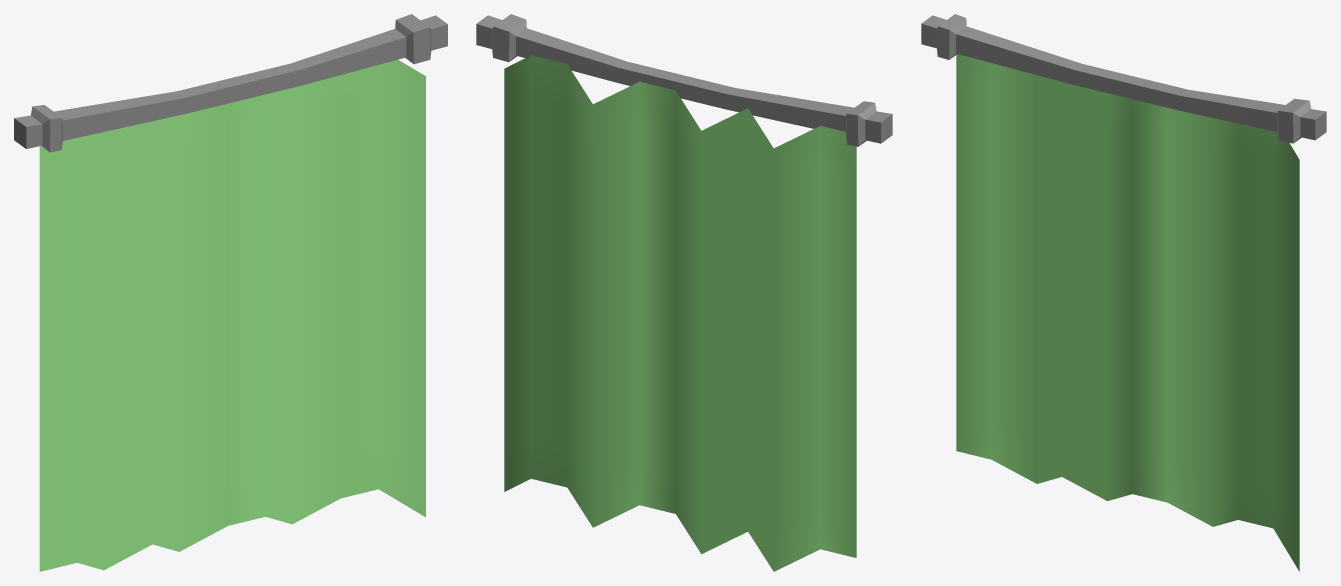
Rendered from SM_GrossisseurGrand.FBX.
The picture shows the model from 3 angles, left to right: view 1: azimuth 30°, elevation 25°; view 2: azimuth 150°, elevation 25°; view 3: azimuth 330°, elevation 25°; orthographic projection. The views are drawn at different scales.
Visible parts, largest first — view 1: Grossissement2; view 2: Grossissement2; view 3: Grossissement2.
Boxes of the visible parts, bbox=[...] form: Grossissement2: bbox=[14, 14, 447, 571]; Grossissement2: bbox=[476, 14, 892, 571]; Grossissement2: bbox=[921, 14, 1326, 571].
Size of the model in its own units: 100 by 112 by 10.72.
